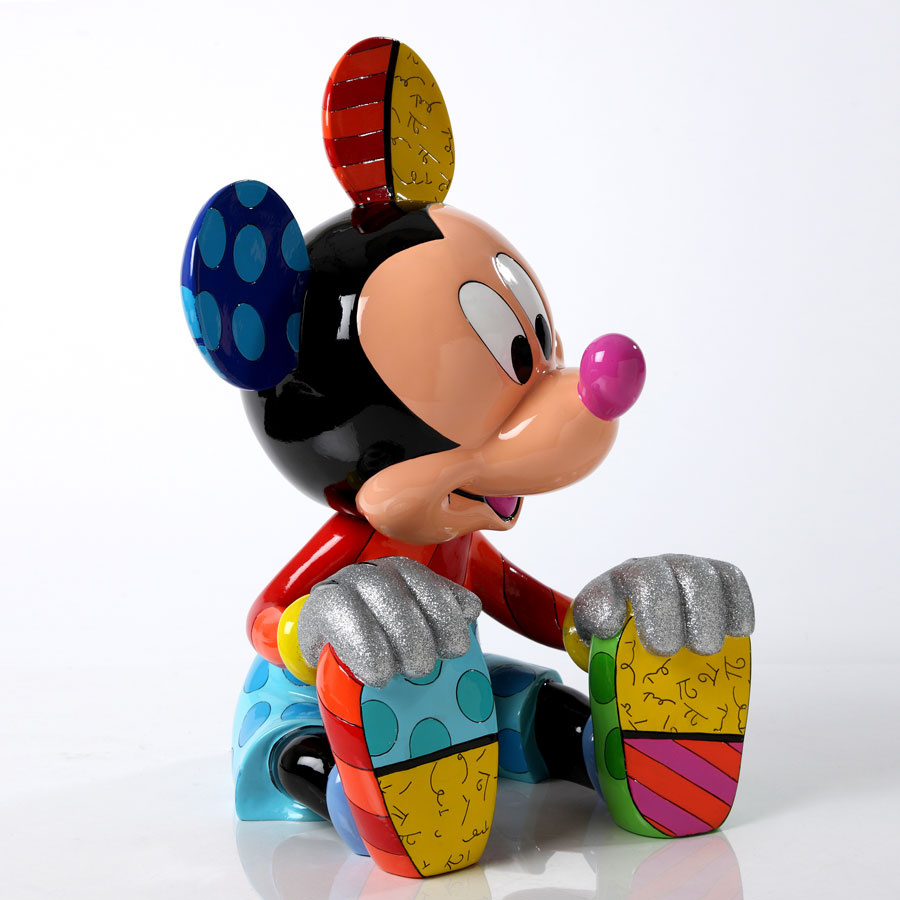Mickey: (167, 28, 649, 550)
